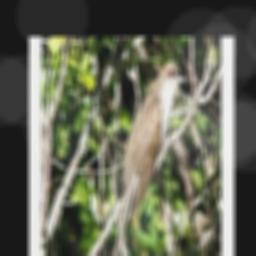Cuckoo: (107, 60, 187, 256)
